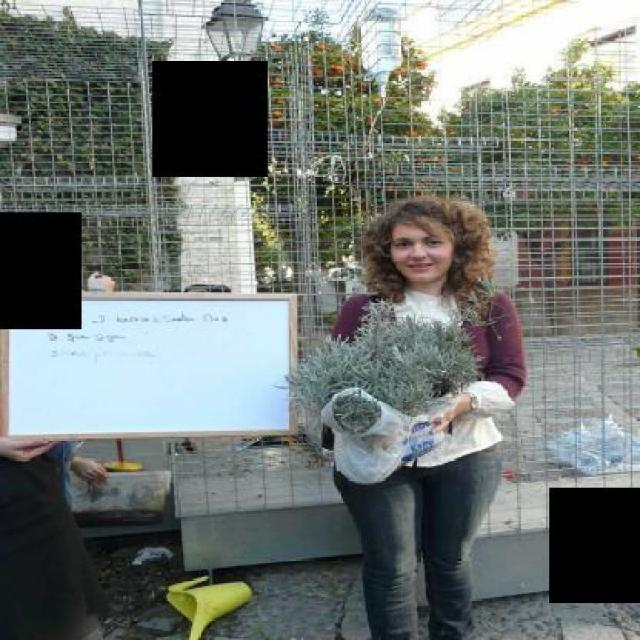plastic bag: (314, 388, 455, 486), (528, 406, 638, 474)
